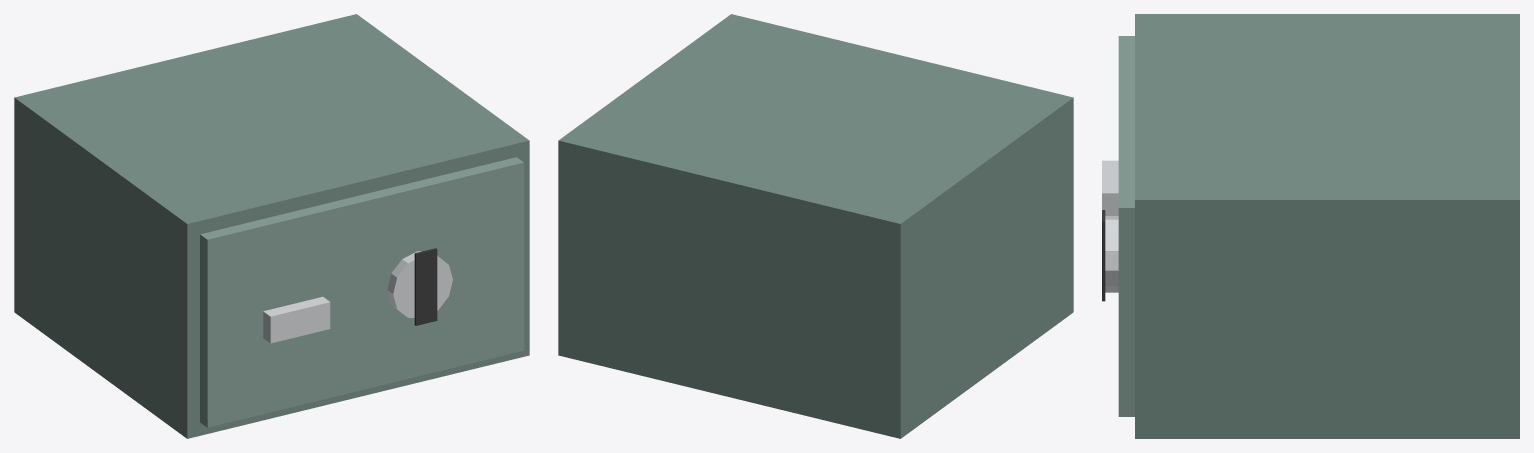
File: KetSat_KhoaSo.glb
The picture shows the model from 3 angles, left to right: view 1: azimuth 30°, elevation 25°; view 2: azimuth 150°, elevation 25°; view 3: azimuth 270°, elevation 25°; orthographic projection. The views are drawn at different scales.
Visible parts, largest first — view 1: KetSat_KhoaSo; view 2: KetSat_KhoaSo; view 3: KetSat_KhoaSo.
Boxes of the visible parts, x1,y1,x2,y2 form: KetSat_KhoaSo: [14, 14, 529, 438]; KetSat_KhoaSo: [558, 14, 1073, 438]; KetSat_KhoaSo: [1102, 14, 1519, 438].
Size of the model in its own units: 0.4 by 0.24 by 0.38.
